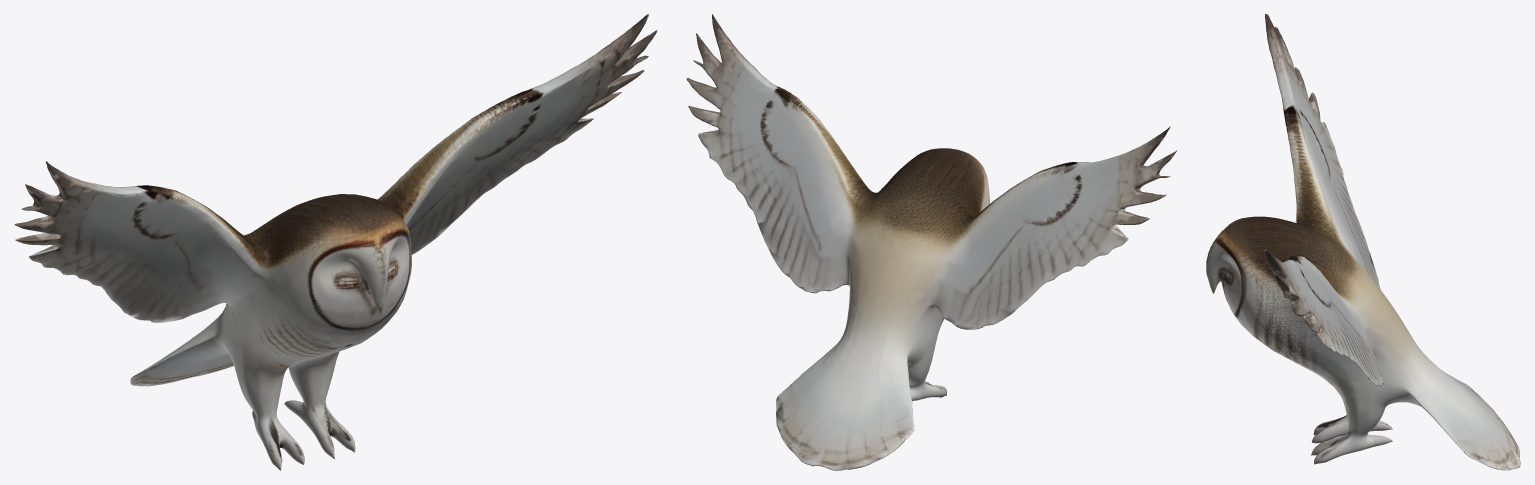
File: owl_flying.glb
The picture shows the model from 3 angles, left to right: view 1: azimuth 30°, elevation 25°; view 2: azimuth 150°, elevation 25°; view 3: azimuth 270°, elevation 25°; orthographic projection. The views are drawn at different scales.
Parts seen in each view (by area): view 1: model; view 2: model; view 3: model.
Boxes of the visible parts, x1,y1,x2,y2 form: model: [14, 14, 657, 470]; model: [686, 14, 1177, 470]; model: [1206, 14, 1520, 470].
Bounding box in the file's own units: 1.9 × 1.17 × 1.02.
Materials: 1 (1 with a texture image).
